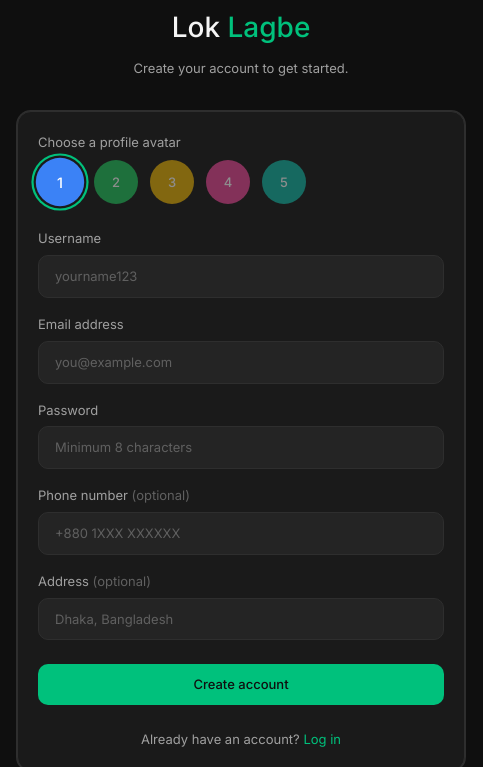
Test: RegisterPage › shows error when required fields are empty and form is submitted
This screenshot has width=483, height=767.
Click submit without filling in any fields
Step 1. Click the button "Create account" → (241, 685), box [38,664,444,705]
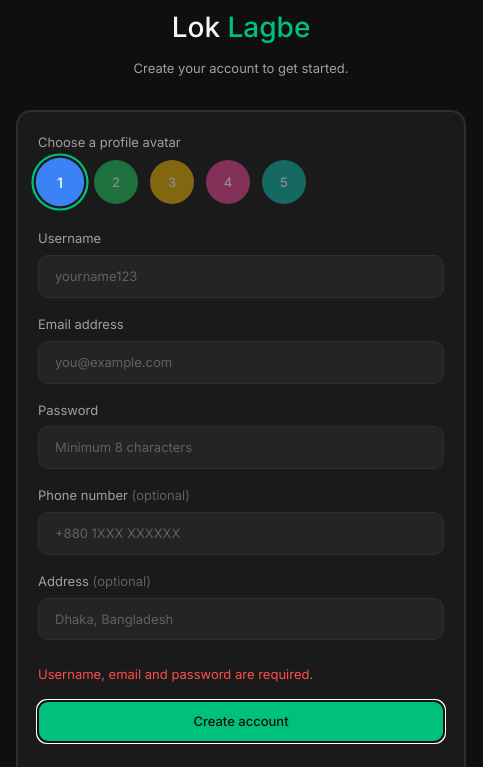
Check: the text "Username, email and password are required." is shown, box [38,666,313,682]
